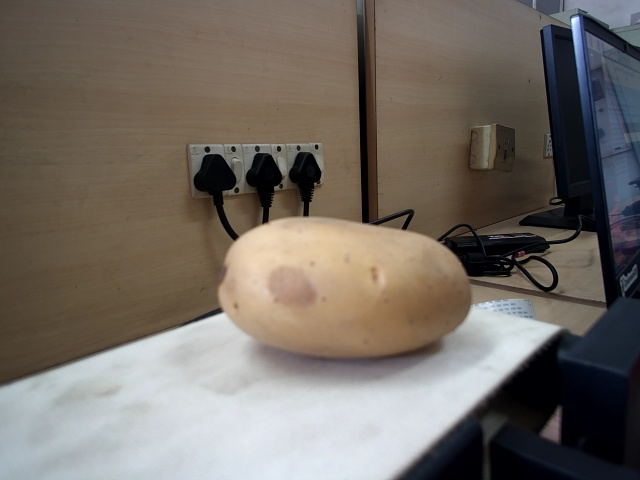Potato: (218, 217, 474, 359)
